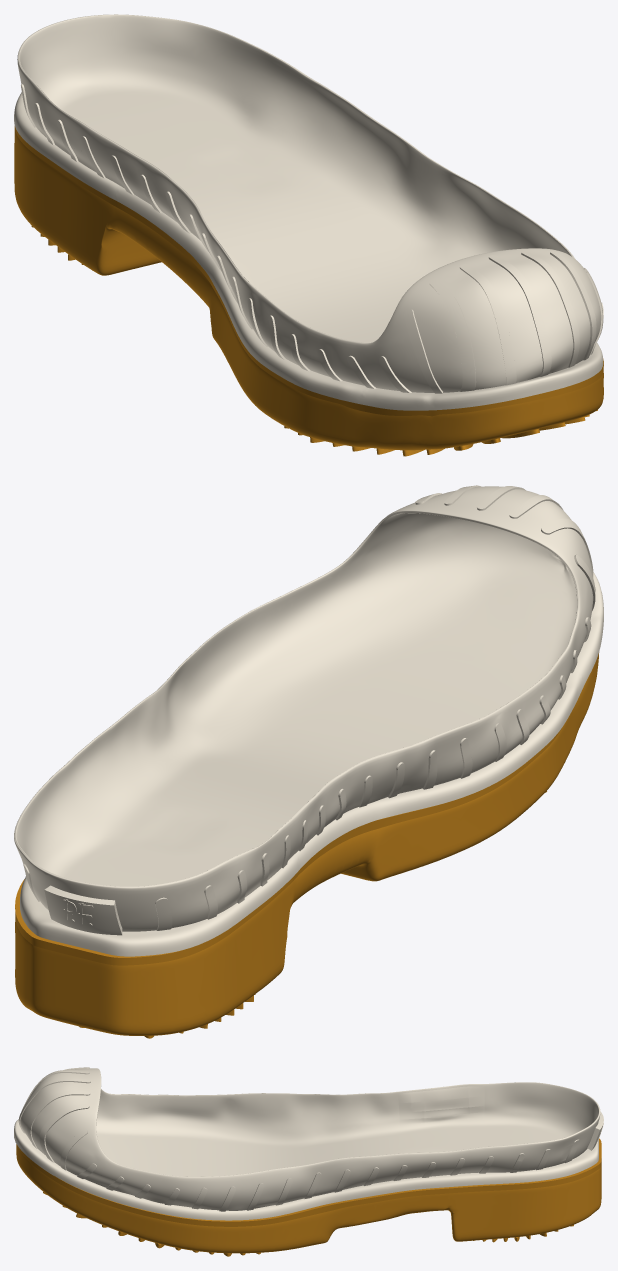
File: clover-sole.glb
The picture shows the model from 3 angles, top to bottom: view 1: azimuth 30°, elevation 25°; view 2: azimuth 150°, elevation 25°; view 3: azimuth 270°, elevation 25°; orthographic projection. The views are drawn at different scales.
Parts seen in each view (by area): view 1: Midsole, Outsole; view 2: Midsole, Outsole; view 3: Midsole, Outsole.
Part boxes in pixels (bbox=[...]): Midsole: bbox=[14, 14, 603, 410]; Outsole: bbox=[14, 126, 603, 456]; Midsole: bbox=[14, 485, 603, 956]; Outsole: bbox=[15, 652, 599, 1038]; Midsole: bbox=[14, 1067, 603, 1220]; Outsole: bbox=[16, 1138, 601, 1256].
Size of the model in its own units: 0.1047 by 0.0752 by 0.2951.
